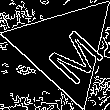M_NW: (30, 14, 100, 82)
